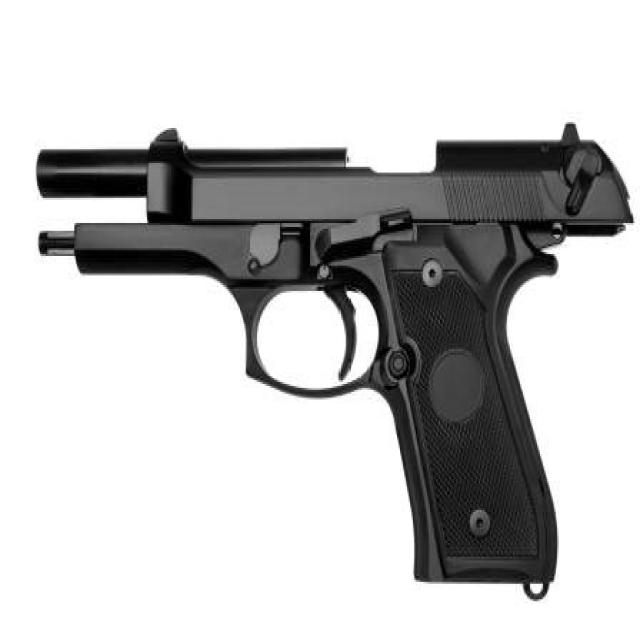pistol: (26, 122, 637, 614)
